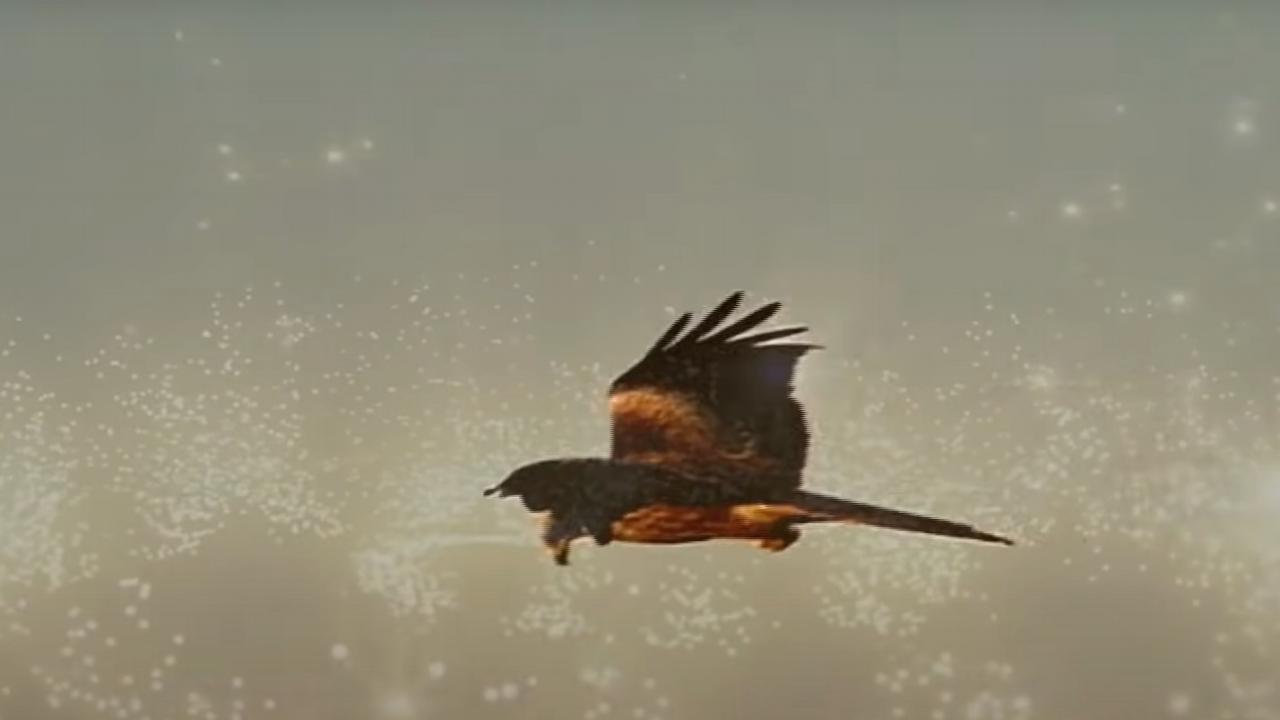Bird: (477, 286, 1030, 573)
